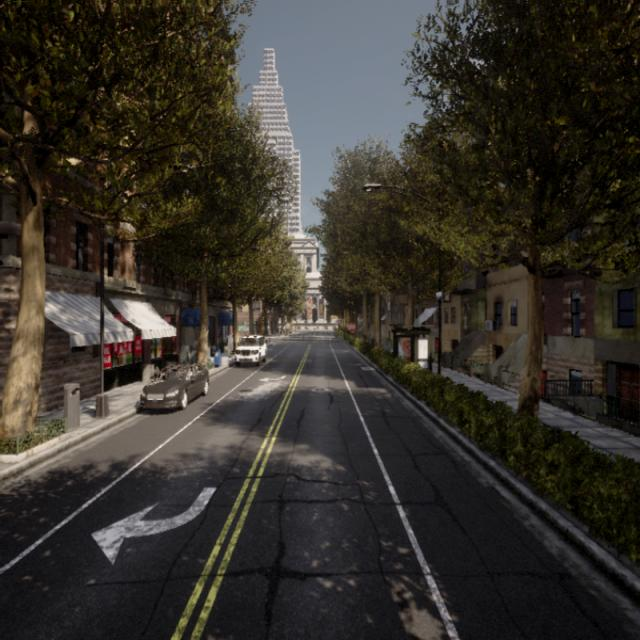stop sign: (344, 321, 360, 336)
